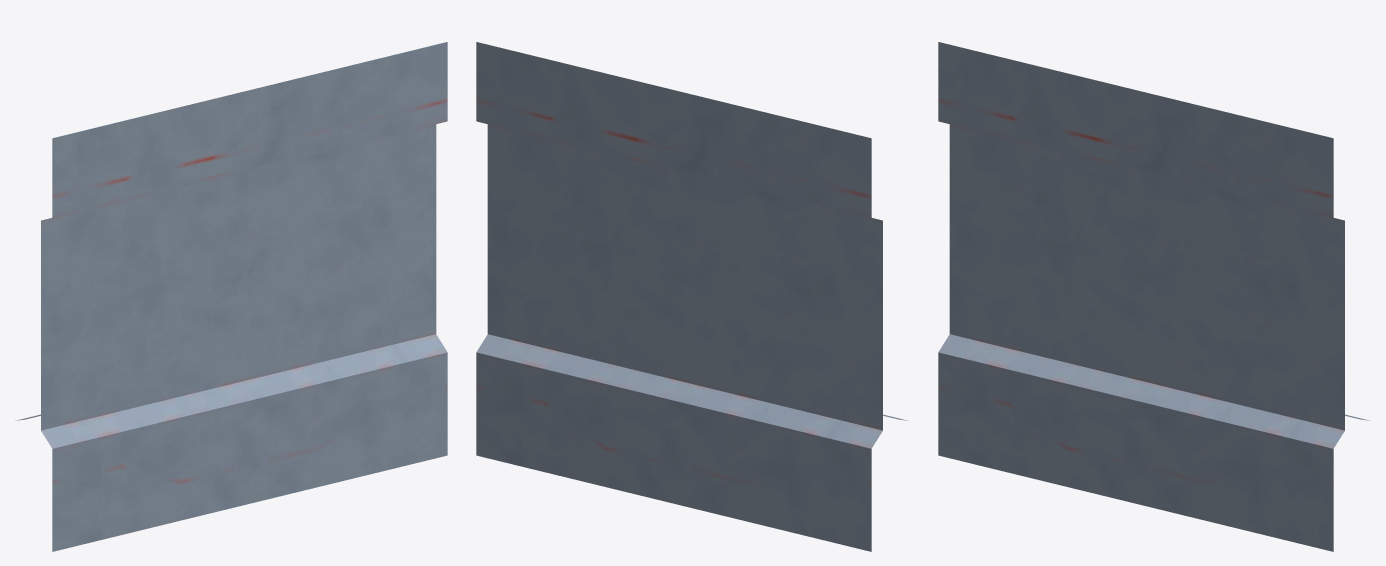
Rendered from Wall_Corner_2.glb.
3 renders of one model, left to right at view 1: azimuth 30°, elevation 25°; view 2: azimuth 150°, elevation 25°; view 3: azimuth 330°, elevation 25°, orthographic.
Visible parts, largest first — view 1: Wall_Corner_2; view 2: Wall_Corner_2; view 3: Wall_Corner_2.
Part boxes in pixels (x1,y1,x2,y2): Wall_Corner_2: (15, 42, 447, 551); Wall_Corner_2: (476, 42, 908, 551); Wall_Corner_2: (938, 42, 1370, 551).
Bounding box in the file's own units: 6 × 6 × 1.
Materials: 1 (1 with a texture image).
